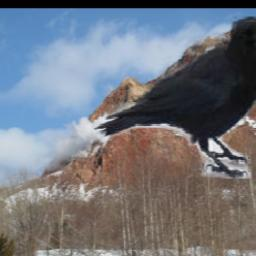Crow: (95, 18, 256, 180)
